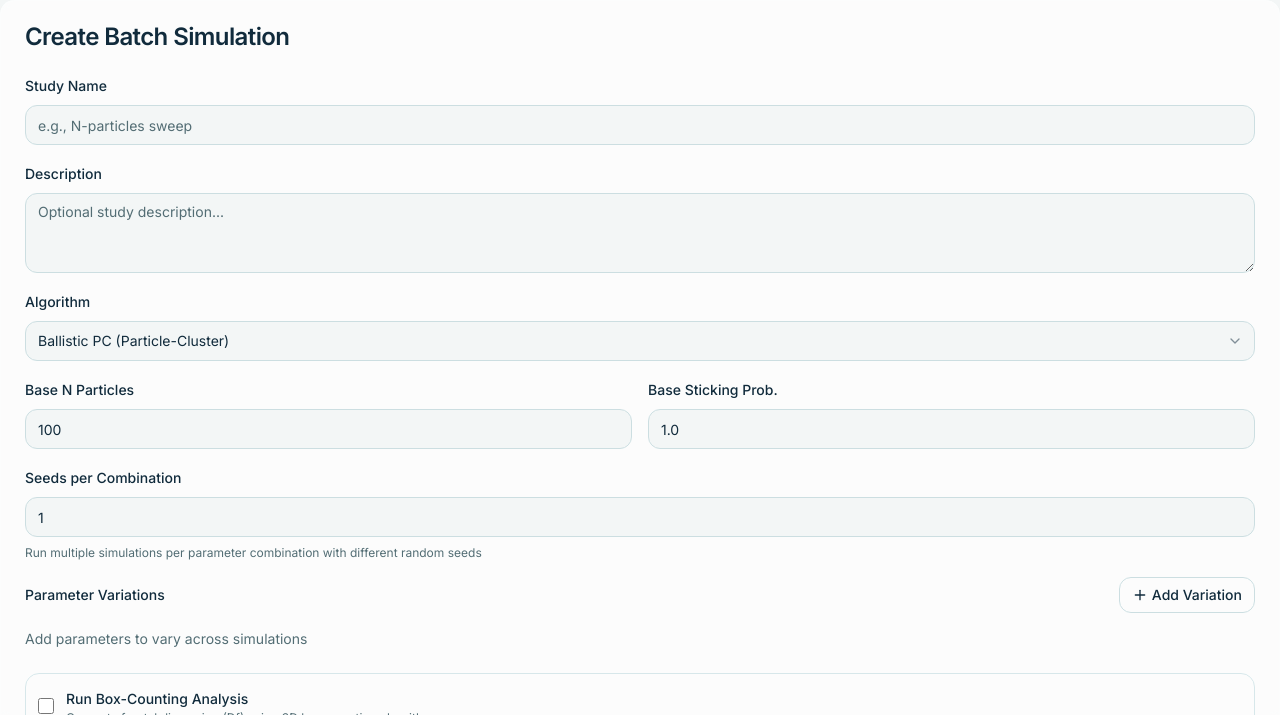
R10.6 — clearing a variation is not the same as hiding it › tells the user which variation the new algorithm dropped
This screenshot has width=1280, height=715.
Select "Ballistic PC (Particle-Cluster)" in the dropdown at point(640, 341), box 25,321 -> 1255,361
Click the button "Add Variation" at point(1187, 595), box 1119,577 -> 1255,613
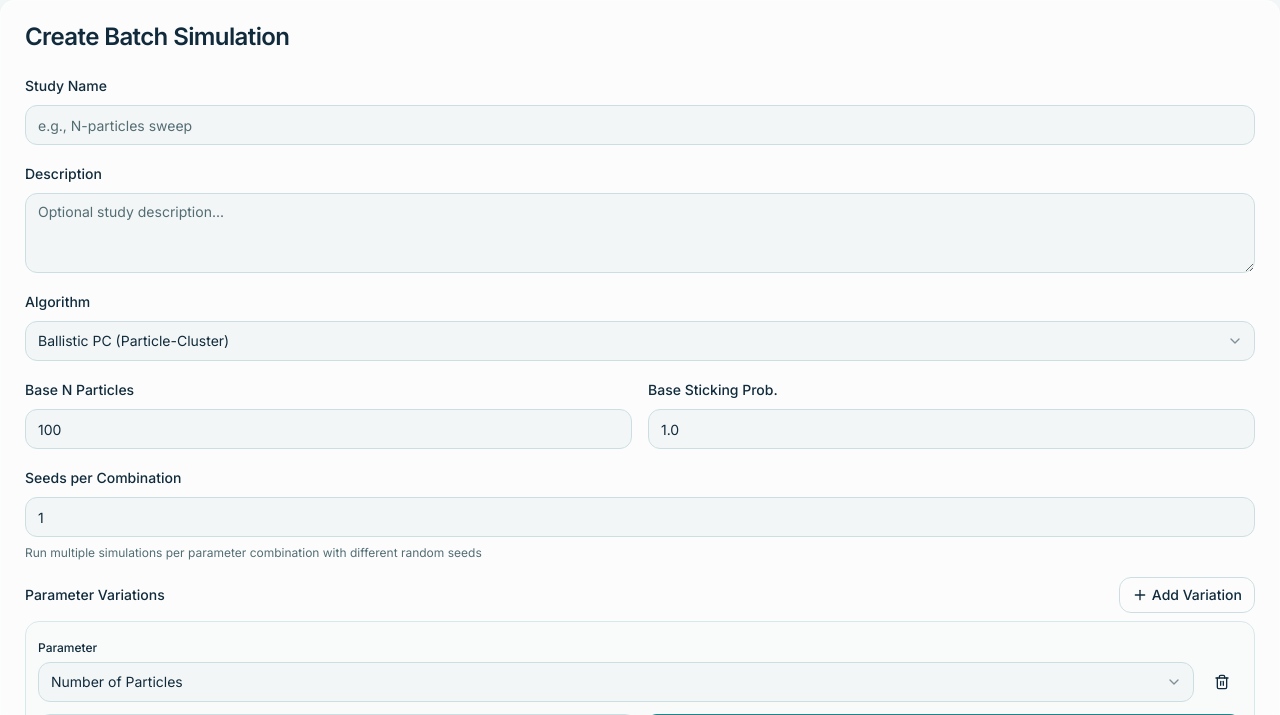
Select "Sintering coefficient distribution" in the dropdown below "Parameter Variations" at point(616, 682), box 38,662 -> 1194,702
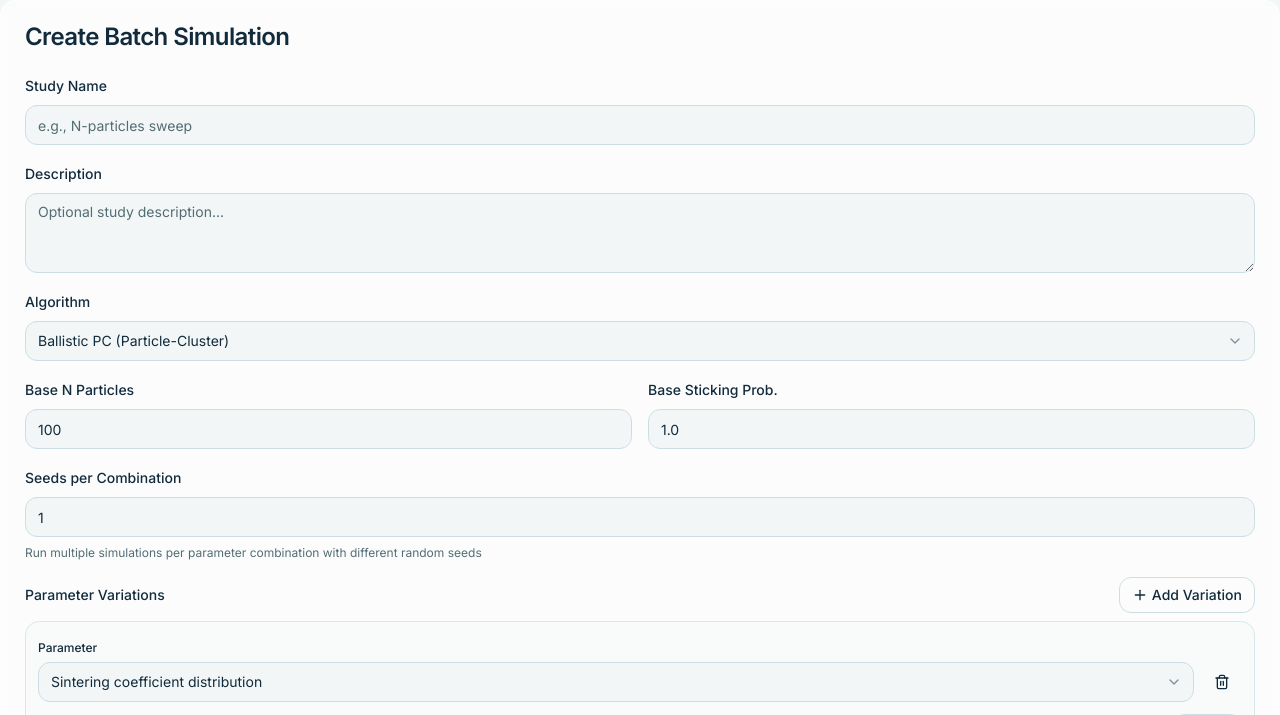
Select "FracVAL (Polydisperse CC)" in the 1st dropdown at point(640, 341), box 25,321 -> 1255,361
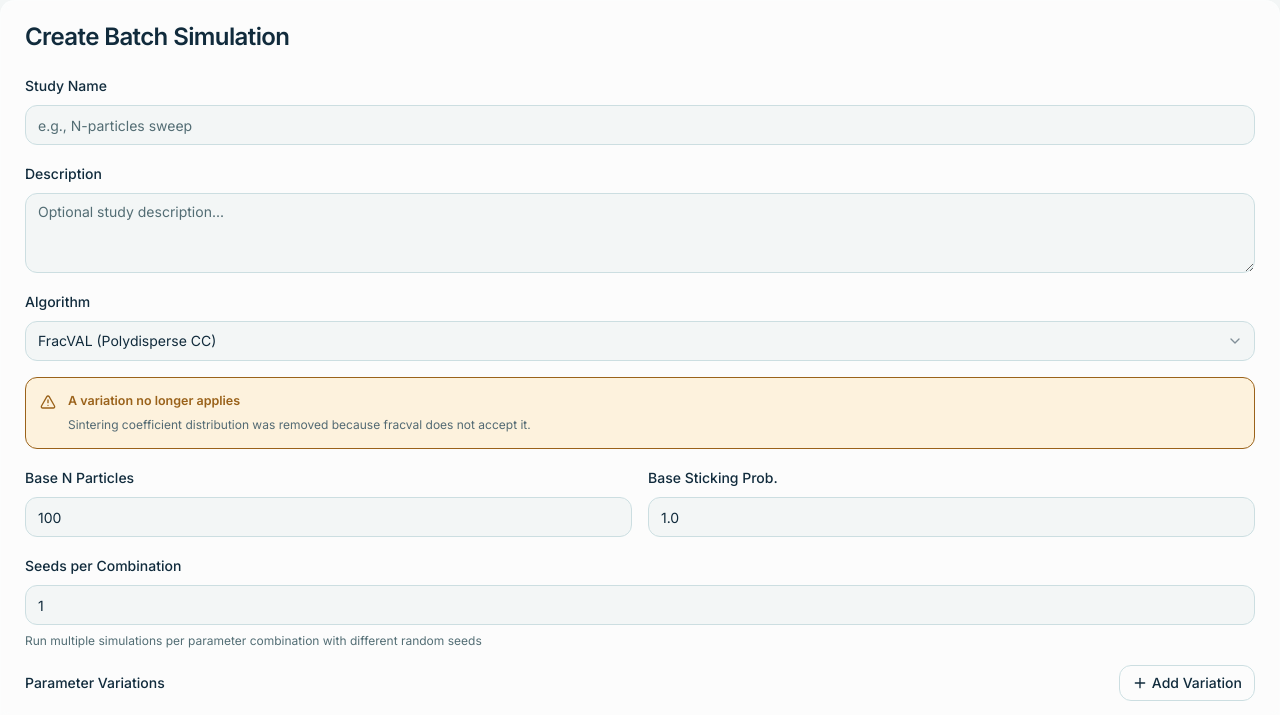
Check: the text "Sintering coefficient distribution was removed because fracval" is shown, box 68,417 -> 531,432
